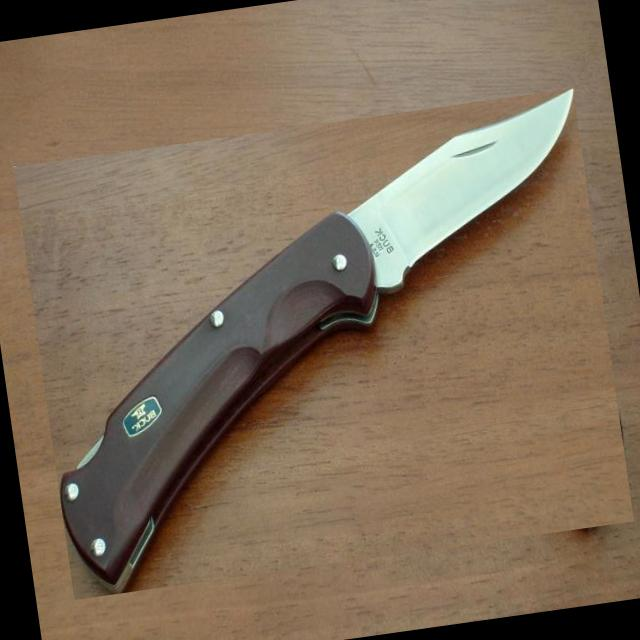Knife: (61, 89, 574, 594)
